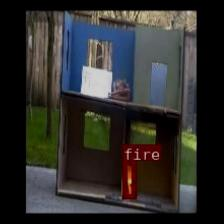fire: (122, 160, 135, 198)
